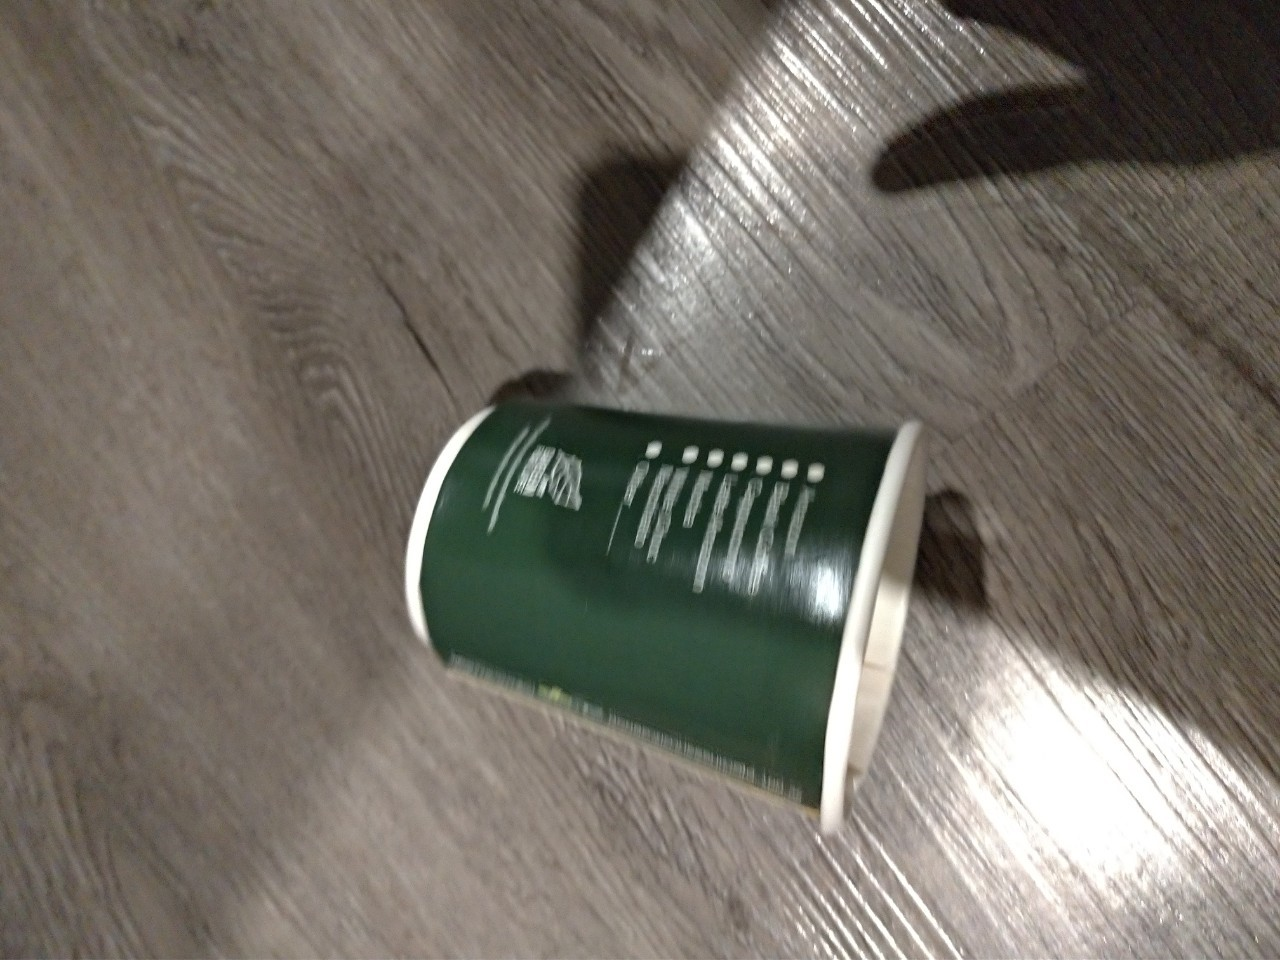PaperCup: (396, 386, 933, 828)
